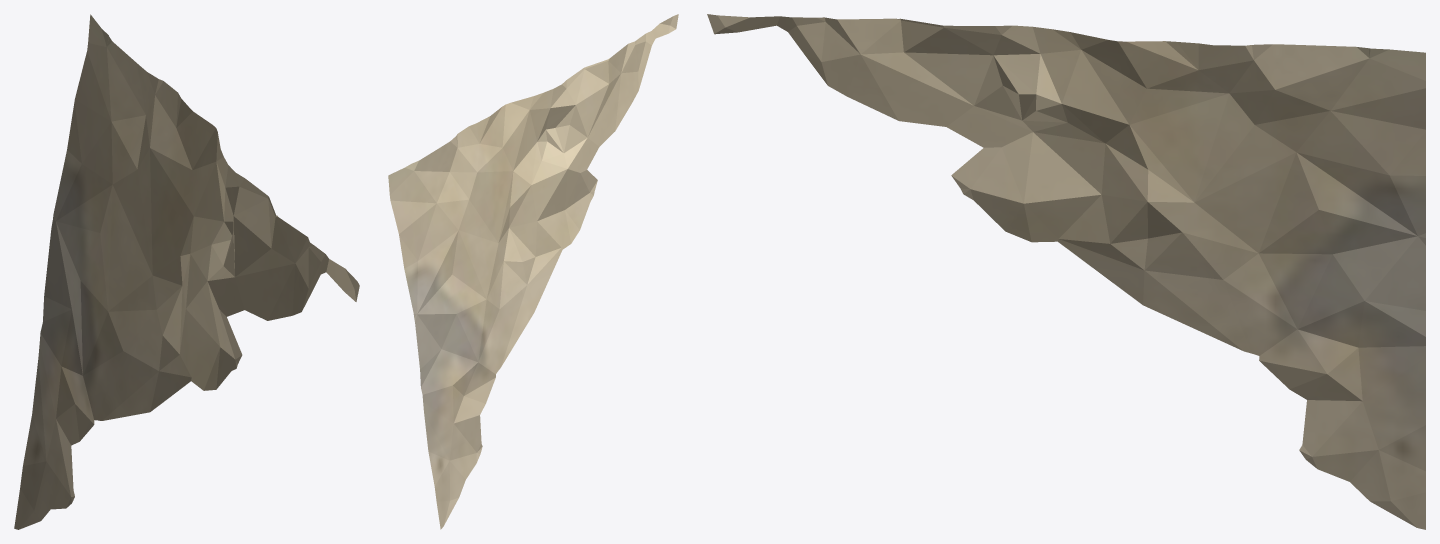
The picture shows the model from 3 angles, left to right: view 1: azimuth 30°, elevation 25°; view 2: azimuth 150°, elevation 25°; view 3: azimuth 270°, elevation 25°; orthographic projection. The views are drawn at different scales.
Bounding box in the file's own units: 0.1185 × 0.7373 × 0.931.
1 material, 1 textured.
